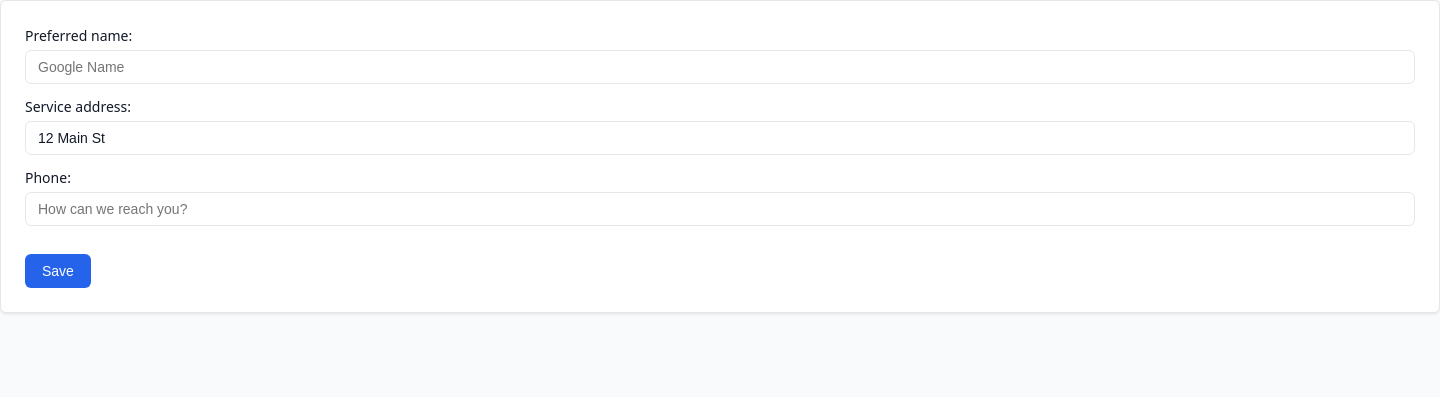
Scenario: ProfileForm › blocks the save and warns when a required field is blank
The width and height of the screenshot is (1440, 397).
// baseUser has an address but no phone, so the required phone is missing.
Click the button "Save".
click(58, 271)  # box x1=25 y1=254 x2=91 y2=288
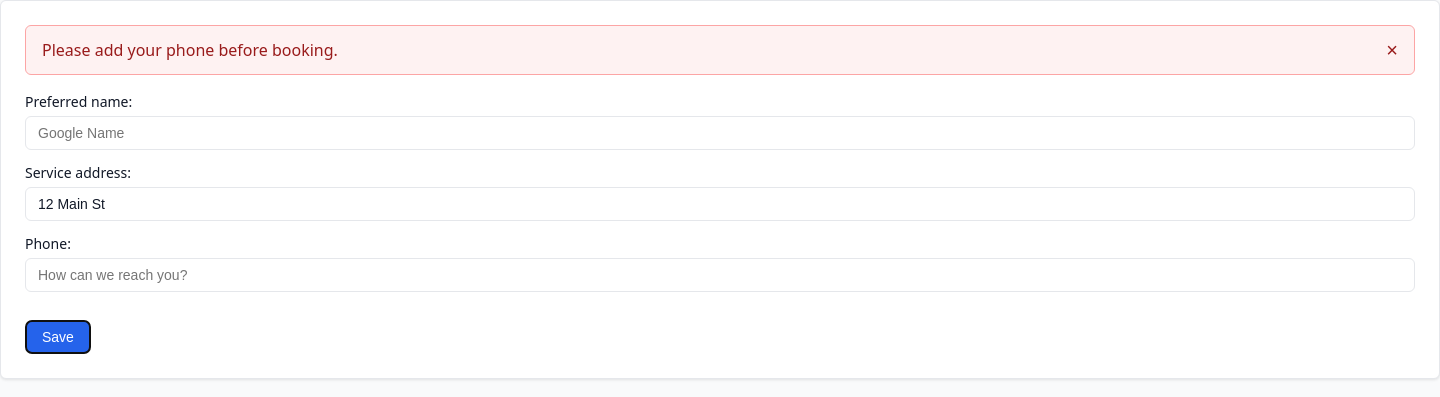
Check: the text "Please add your phone before booking." is shown, box x1=42 y1=38 x2=338 y2=62
